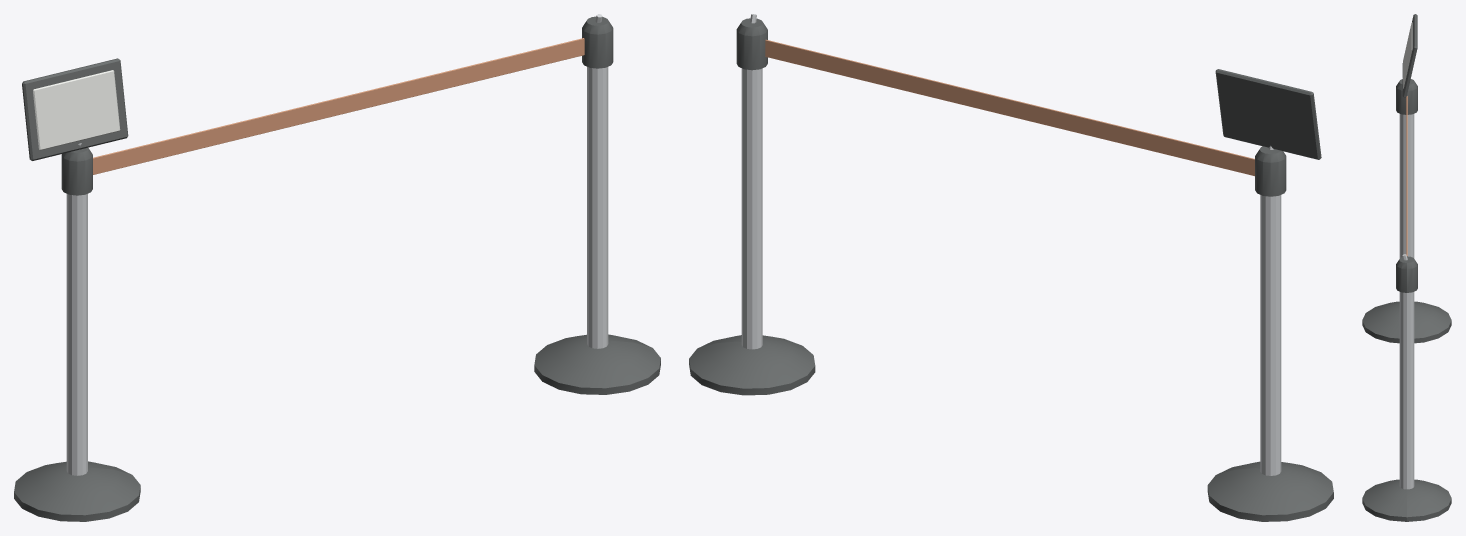
File: garden-centre-and-florist-till-queue-guide-5e068e53__17775.glb
The picture shows the model from 3 angles, left to right: view 1: azimuth 30°, elevation 25°; view 2: azimuth 150°, elevation 25°; view 3: azimuth 270°, elevation 25°; orthographic projection. The views are drawn at different scales.
Parts seen in each view (by area): view 1: till-queue-guide; view 2: till-queue-guide; view 3: till-queue-guide.
Part boxes in pixels (x1,y1,x2,y2): till-queue-guide: [14, 14, 660, 521]; till-queue-guide: [689, 14, 1333, 521]; till-queue-guide: [1362, 14, 1451, 521].
Bounding box in the file's own units: 1.94 × 1.24 × 0.3401.
